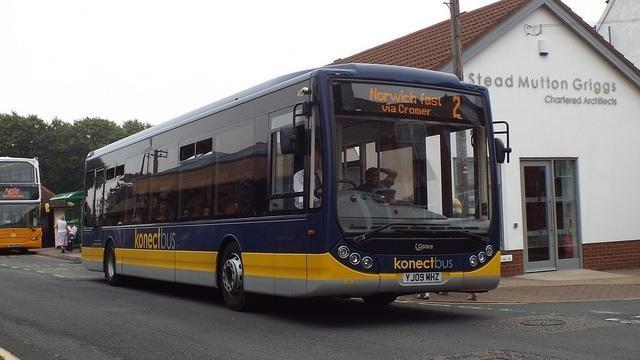bus: (80, 59, 502, 308), (1, 156, 42, 252)
